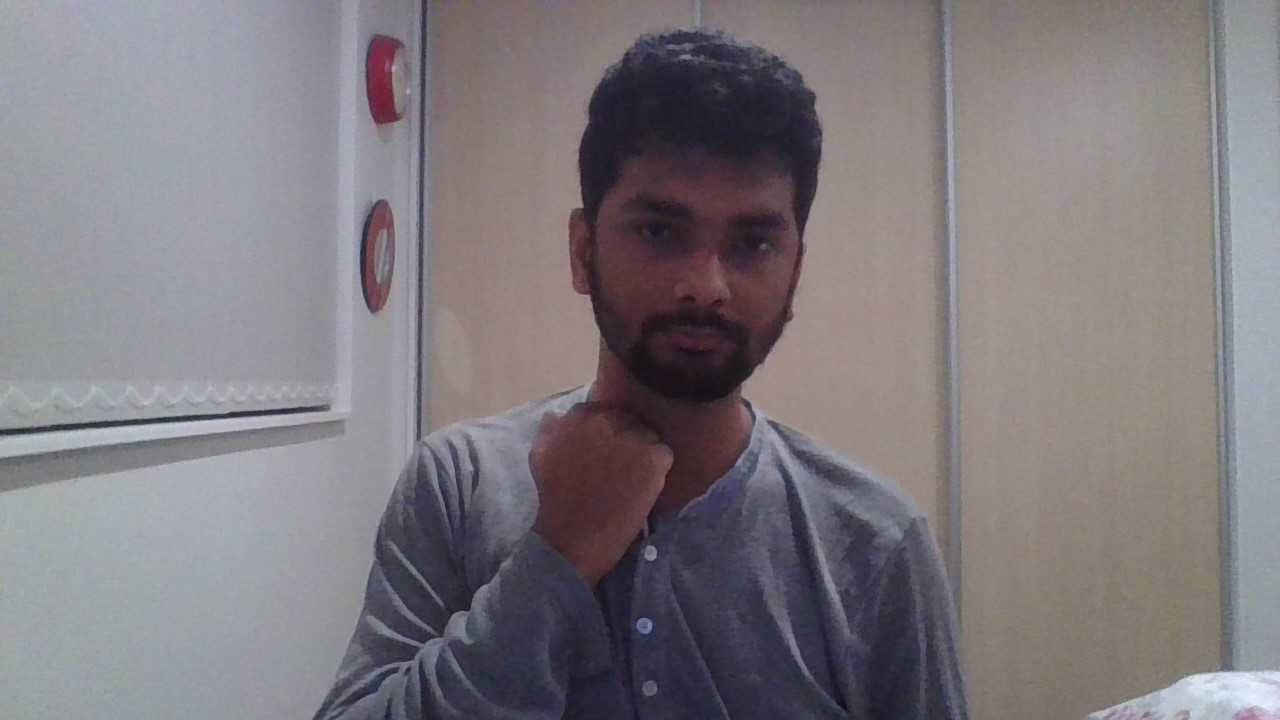day: (528, 403, 676, 589)
